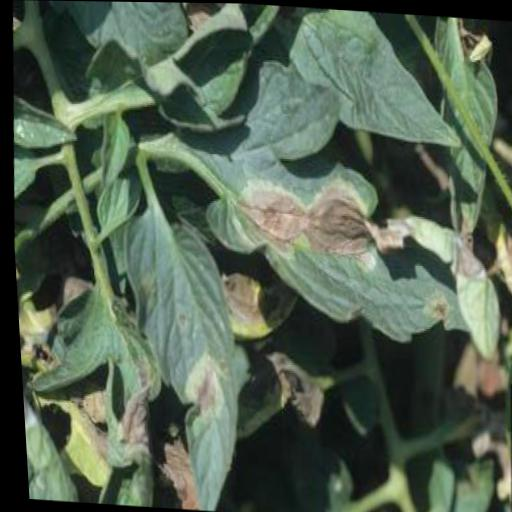Late Blight: (124, 54, 454, 351), (113, 188, 256, 512)
